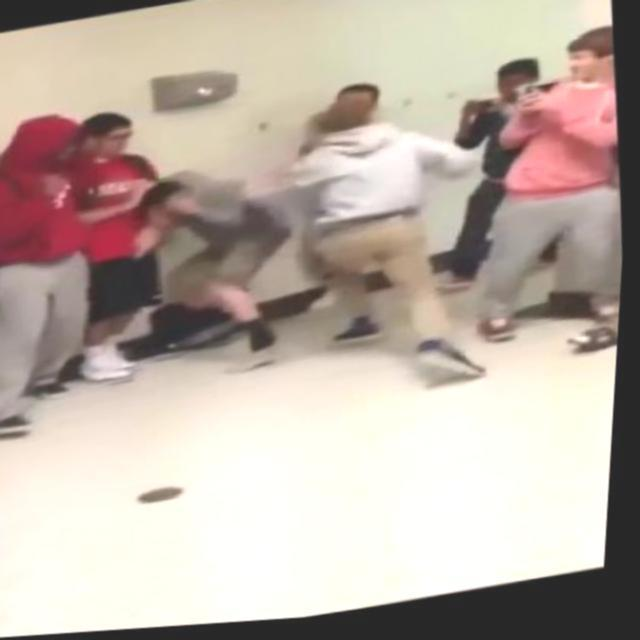fight: (111, 80, 514, 440)
